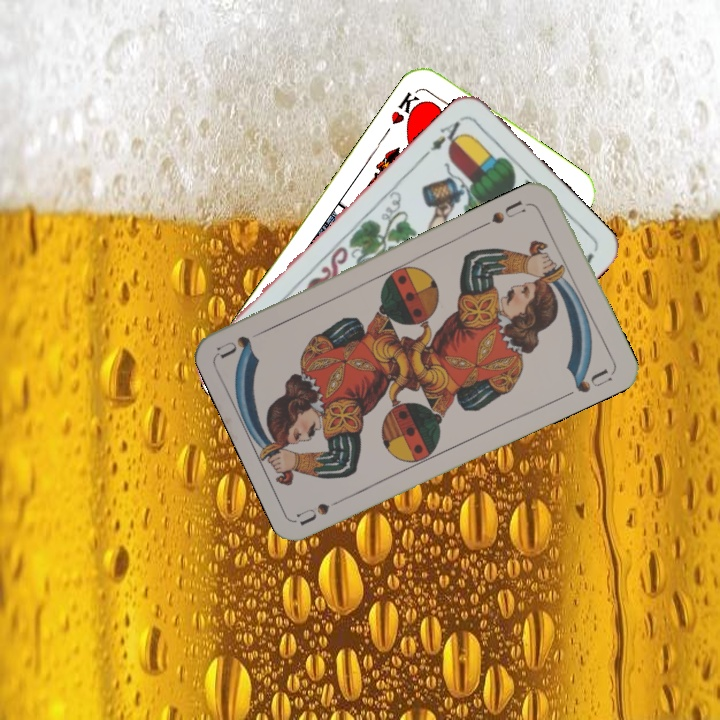EA: (419, 113, 468, 160)
HK: (386, 87, 427, 130)
SU: (293, 492, 352, 527), (487, 196, 535, 227)
